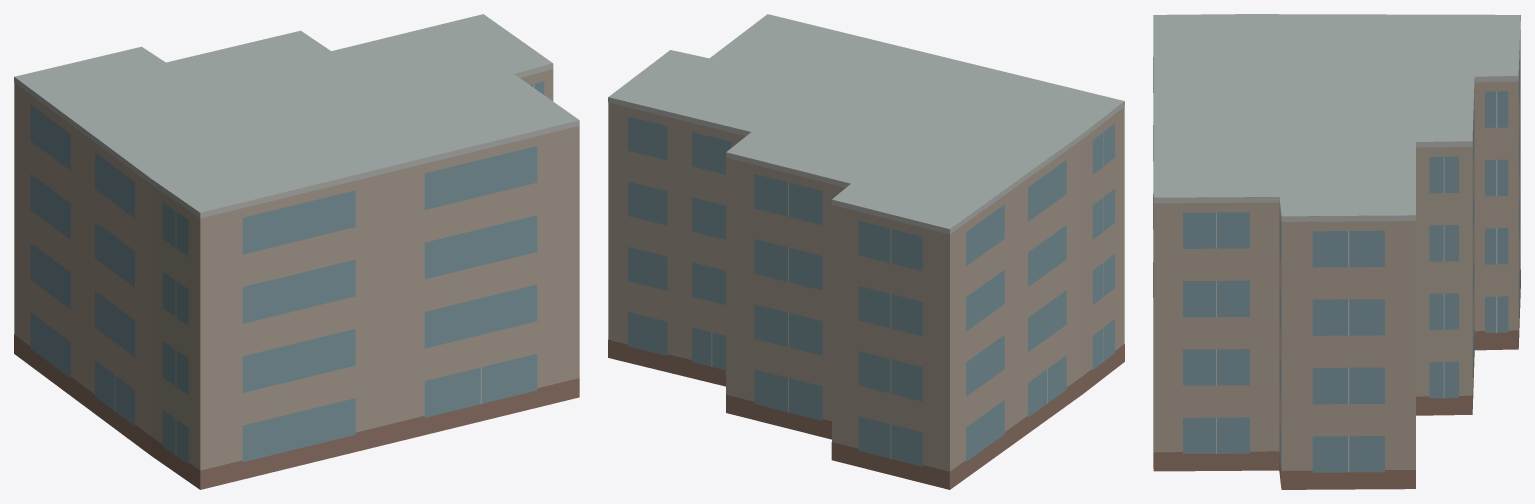
The model's file is survey-upis-33031899.glb.
3 views of the same model, side by side, from view 1: azimuth 30°, elevation 25°; view 2: azimuth 150°, elevation 25°; view 3: azimuth 270°, elevation 25° (orthographic). The views are drawn at different scales.
Parts seen in each view (by area): view 1: survey-upis-33031899.tmp; view 2: survey-upis-33031899.tmp; view 3: survey-upis-33031899.tmp.
Part boxes in pixels (x1=…): survey-upis-33031899.tmp: x1=14, y1=14, x2=579, y2=489; survey-upis-33031899.tmp: x1=608, y1=14, x2=1124, y2=489; survey-upis-33031899.tmp: x1=1153, y1=14, x2=1520, y2=489.
Bounding box in the file's own units: 18.88 × 11.9 × 14.49.
